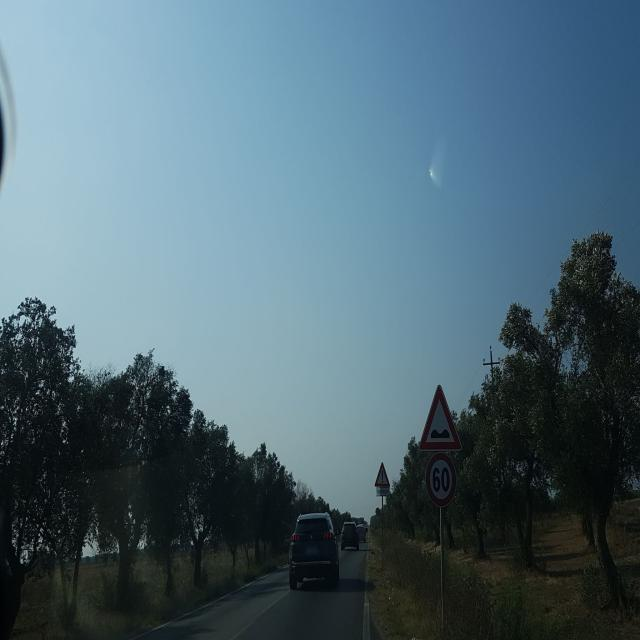car: (288, 511, 340, 591), (340, 521, 360, 551), (356, 524, 368, 544)
